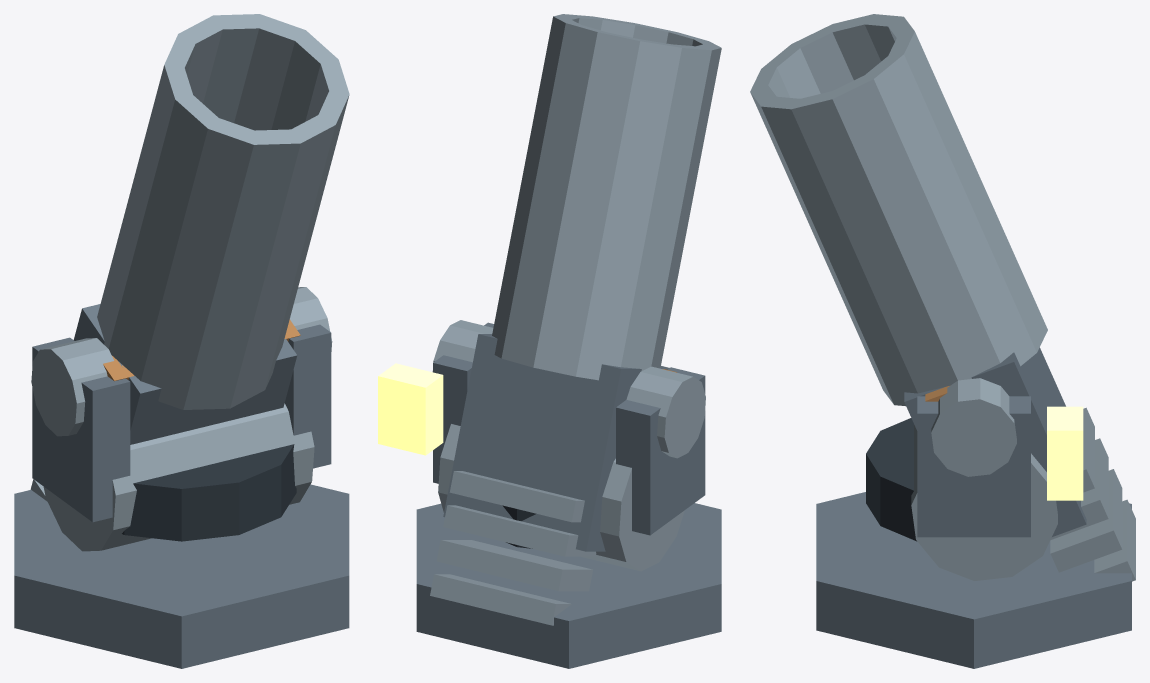
Rendered from mortar_t3.glb.
The picture shows the model from 3 angles, left to right: view 1: azimuth 30°, elevation 25°; view 2: azimuth 150°, elevation 25°; view 3: azimuth 270°, elevation 25°; orthographic projection. The views are drawn at different scales.
Visible parts, largest first — view 1: Mortar tube wall, Ground plinth, Cradle (×2), Bearing, Autoloader drum, Elevation motor (×2), Breech; view 2: Mortar tube wall, Ground plinth, Breech, Capacitor (×4), Cradle (×2), Elevation motor (×2), Autoloader drum, Range radar; view 3: Mortar tube wall, Ground plinth, Cradle, Capacitor (×4), Elevation motor, Autoloader drum, Breech, Bearing, Range radar.
Boxes of the visible parts, x1,y1,x2,y2 form: Mortar tube wall: [97, 14, 349, 409]; Ground plinth: [14, 484, 349, 668]; Cradle (×2): [32, 324, 331, 522]; Bearing: [122, 444, 296, 541]; Autoloader drum: [43, 403, 314, 551]; Elevation motor (×2): [31, 287, 332, 436]; Breech: [73, 304, 297, 444]; Mortar tube wall: [492, 14, 721, 380]; Ground plinth: [416, 503, 721, 668]; Breech: [443, 334, 669, 551]; Capacitor (×4): [430, 471, 596, 625]; Cradle (×2): [433, 322, 705, 535]; Elevation motor (×2): [432, 320, 705, 458]; Autoloader drum: [438, 424, 684, 571]; Range radar: [378, 363, 443, 455]; Mortar tube wall: [750, 14, 1047, 406]; Ground plinth: [816, 492, 1131, 668]; Cradle: [917, 396, 1030, 537]; Capacitor (×4): [1050, 407, 1135, 581]; Elevation motor: [931, 378, 1016, 476]; Autoloader drum: [911, 424, 1057, 580]; Breech: [904, 347, 1086, 536]; Bearing: [866, 418, 916, 541]; Range radar: [1047, 406, 1083, 500].
Bounding box in the file's own units: 1.6 × 2.72 × 1.69.
